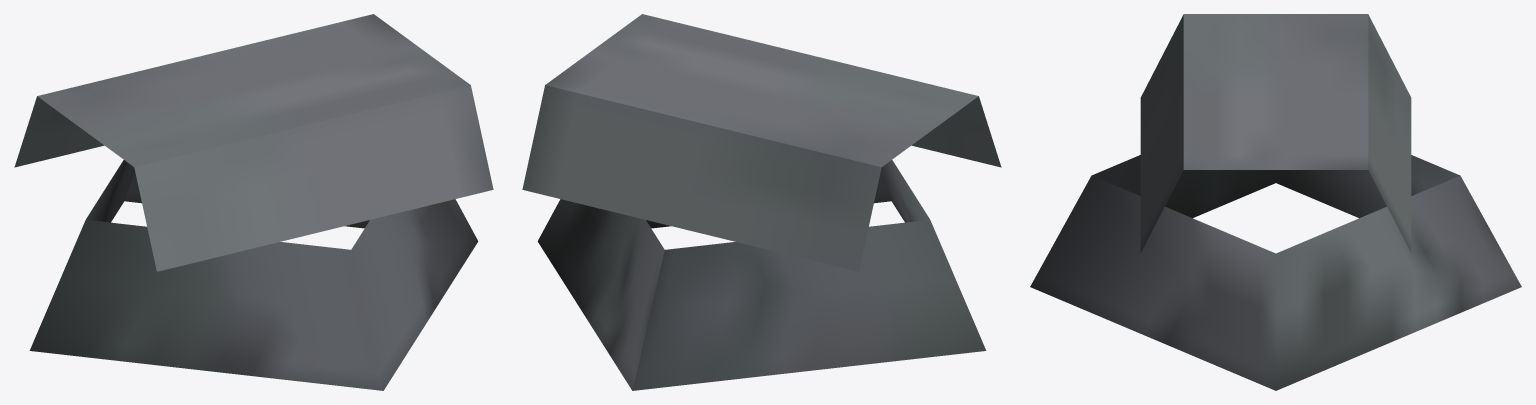
The model's file is tie_aggressor_turret_base_l2.fbx.
3 views of the same model, side by side, from view 1: azimuth 30°, elevation 25°; view 2: azimuth 150°, elevation 25°; view 3: azimuth 270°, elevation 25° (orthographic). The views are drawn at different scales.
Visible parts, largest first — view 1: mesh_node; view 2: mesh_node; view 3: mesh_node.
Part boxes in pixels (box(x1,y1,x2,y2)): mesh_node: box(14, 14, 493, 390); mesh_node: box(522, 14, 1001, 390); mesh_node: box(1030, 14, 1521, 390).
Bounding box in the file's own units: 0.8 × 0.35 × 0.8.
